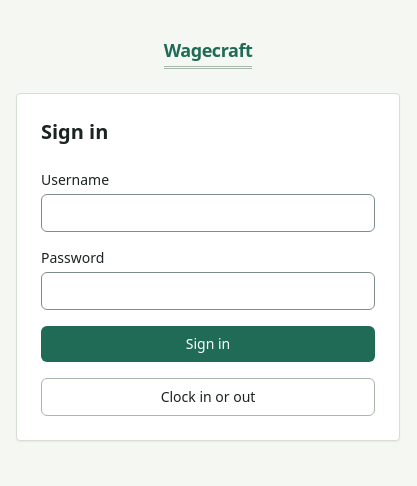
Test: AuthGate › shows the server's message when sign-in fails
The image size is (417, 486).
Expected: the heading "Sign in" is shown, [41,118,108,144]
Type "admin" into the field labelled "Username" at (208, 212), box [41,194,375,232]
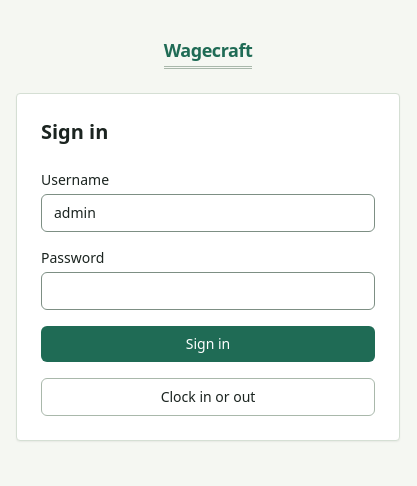
Type "wrong password" into the password field labelled "Password" at (208, 290), box [41,272,375,310]
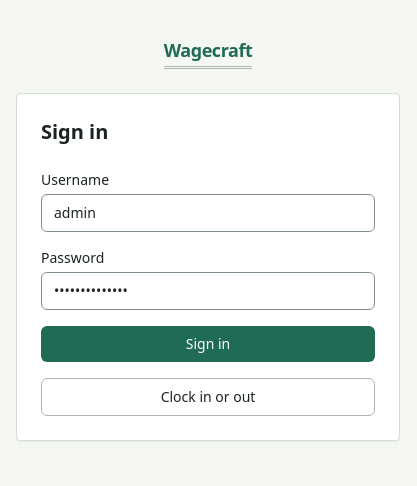
Click the button "Sign in" at (208, 344), box [41,326,375,362]
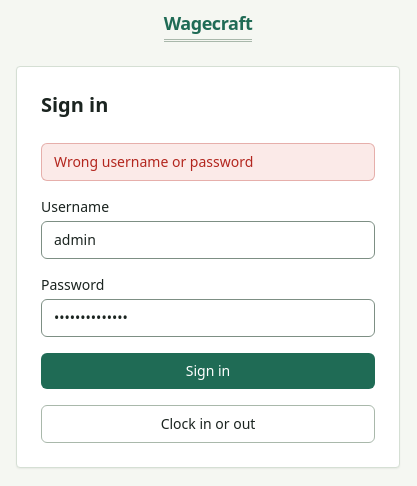
Now the message reads "Wrong username or password", box [54,152,253,170]
